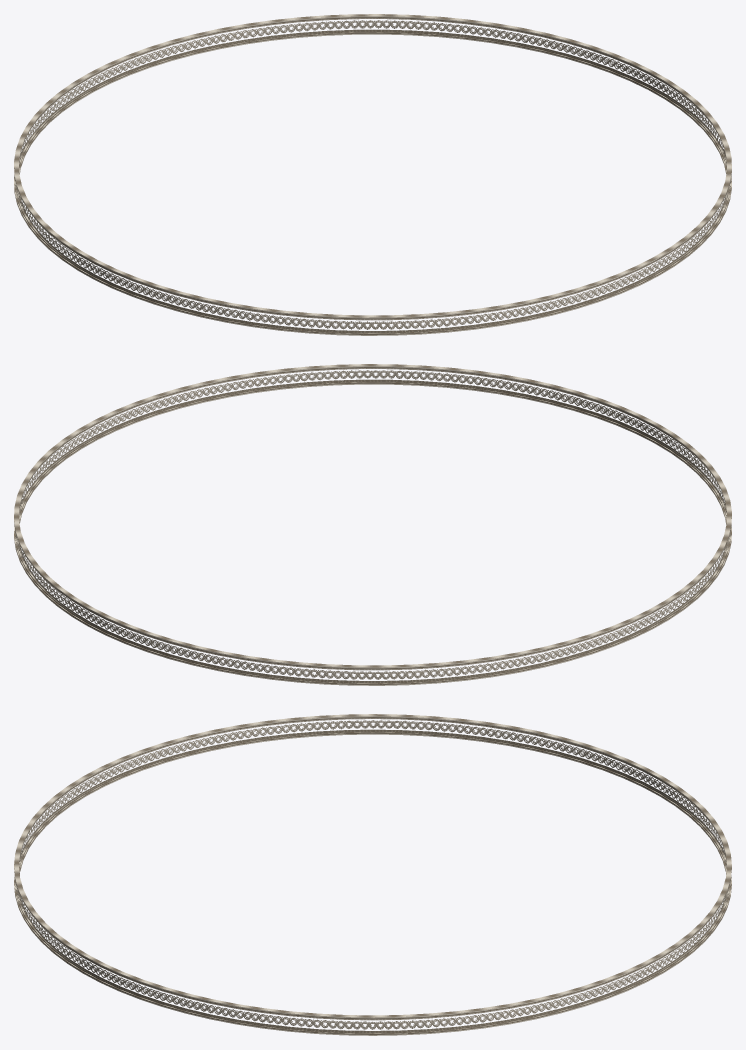
File: ring_5.obj
3 views of the same model, one above another, from view 1: azimuth 30°, elevation 25°; view 2: azimuth 150°, elevation 25°; view 3: azimuth 270°, elevation 25° (orthographic).
Size of the model in its own units: 40.38 by 1.14 by 40.38.
